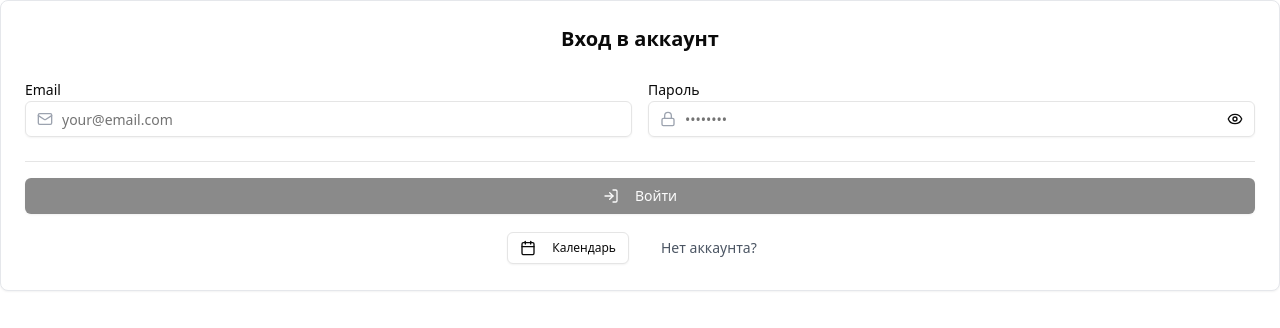
AuthForm — режим входа › невалидный email показывает ошибку
Type "not-an-email" into the field labelled "Email" at (328,119), box 25,101 -> 632,137
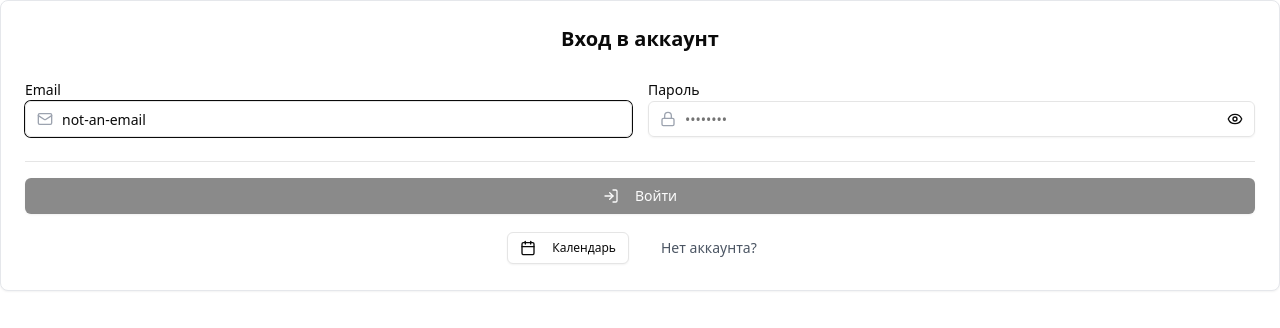
Press Tab
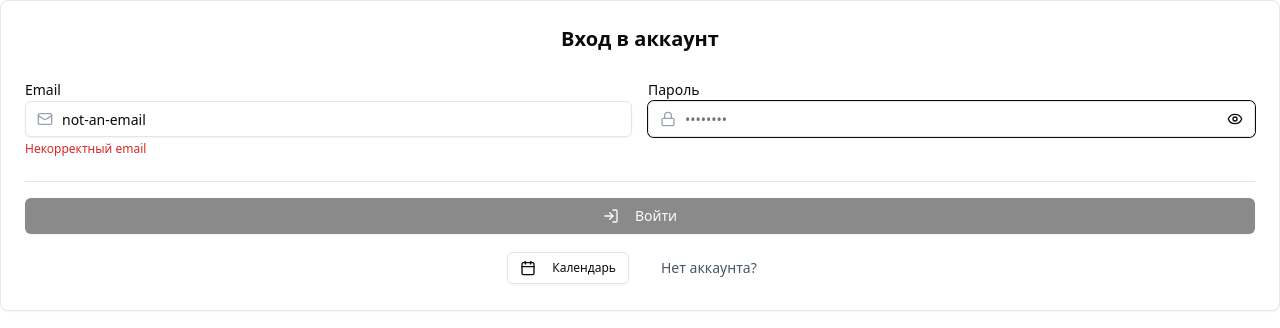
Result: the text "Некорректный email" is shown at 25,140 -> 146,157
